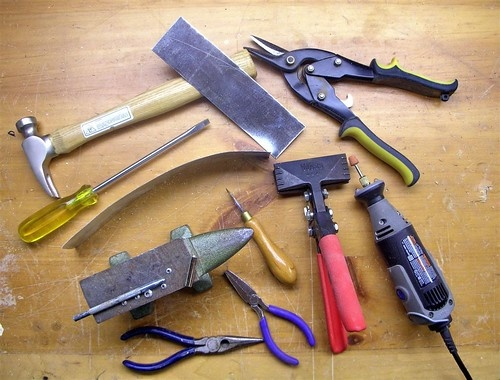hammer: (15, 76, 219, 198)
